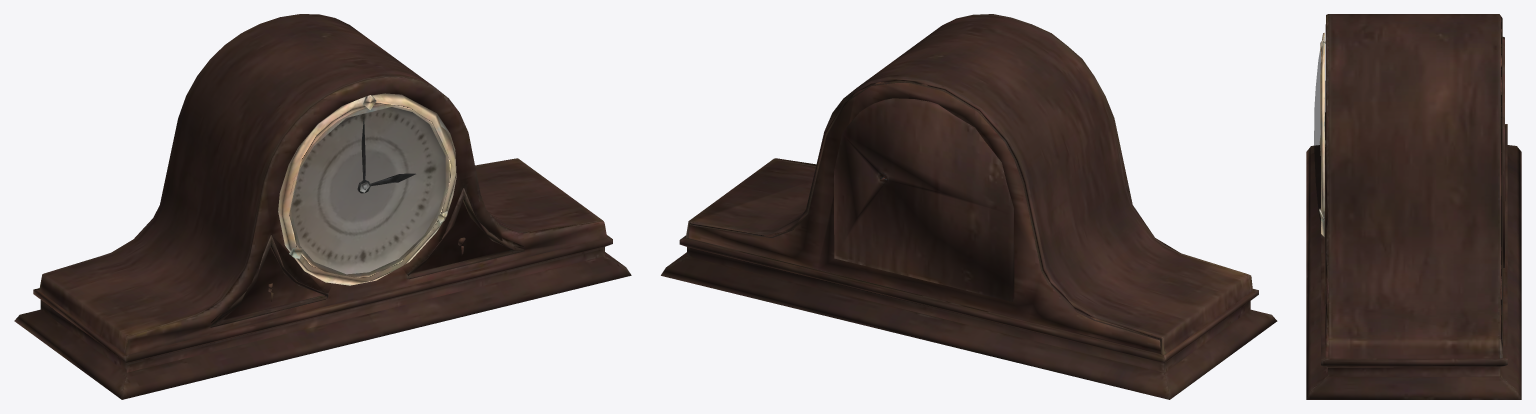
Rendered from mantel_clock_01.glb.
3 views of the same model, side by side, from view 1: azimuth 30°, elevation 25°; view 2: azimuth 150°, elevation 25°; view 3: azimuth 270°, elevation 25° (orthographic).
Visible parts, largest first — view 1: mantel_clock_01, mantel_clock_01_glass; view 2: mantel_clock_01; view 3: mantel_clock_01, mantel_clock_01_glass.
Part boxes in pixels (x1,y1,x2,y2): mantel_clock_01: (14,14,631,399); mantel_clock_01_glass: (290,104,449,276); mantel_clock_01: (661,14,1277,399); mantel_clock_01: (1306,14,1521,399); mantel_clock_01_glass: (1314,49,1321,223).
Size of the model in its own units: 0.3418 by 0.1604 by 0.1252.
Materials: 2 (2 with a texture image).
